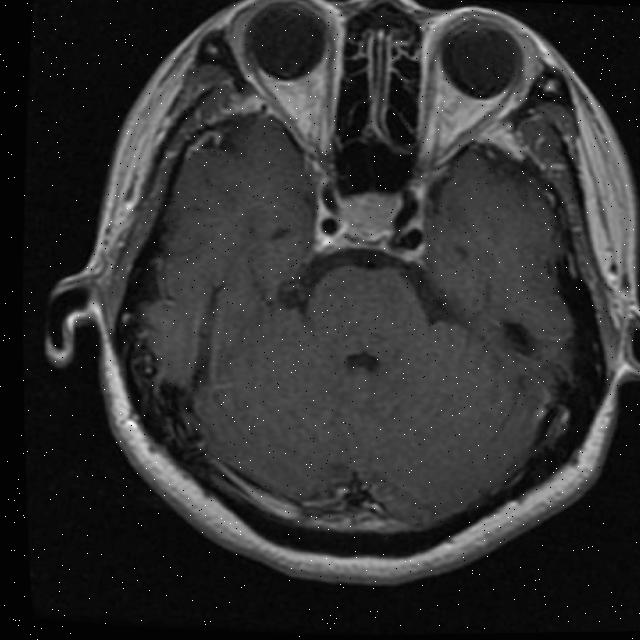Pituitary: (329, 185, 405, 242)
